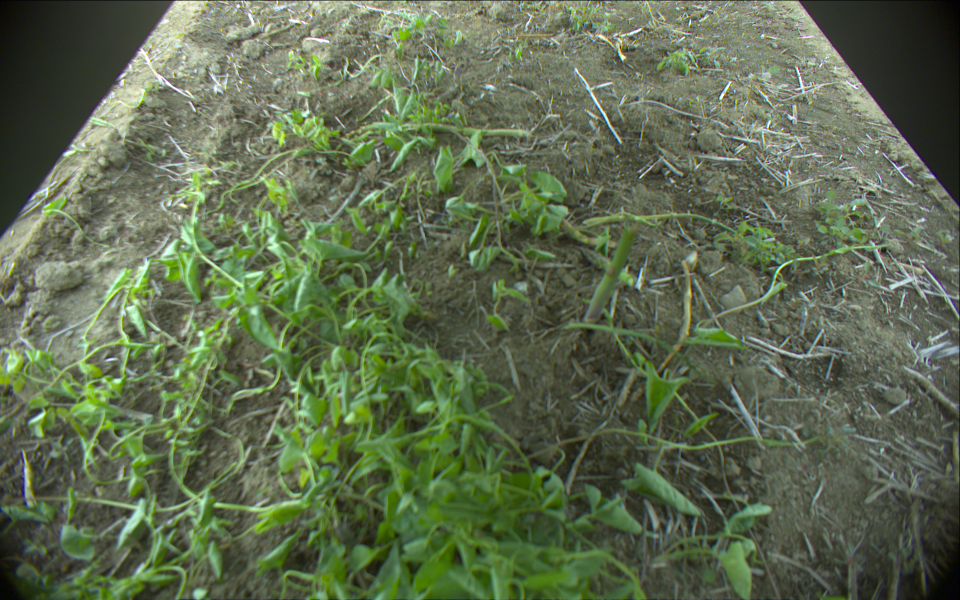aspa: (584, 222, 637, 329), (576, 243, 636, 289), (370, 124, 527, 136)
